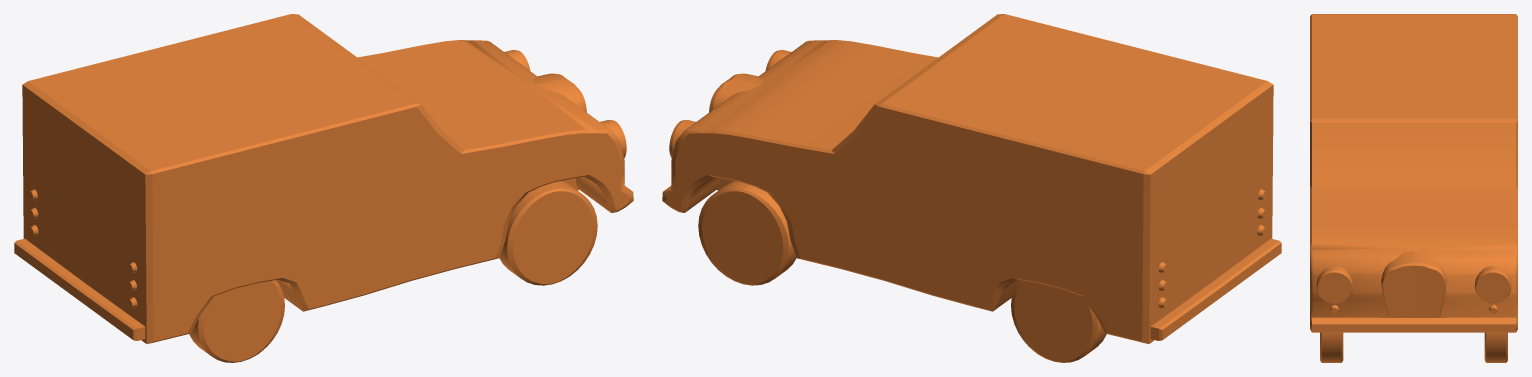
Rendered from wallace.glb.
3 views of the same model, side by side, from view 1: azimuth 30°, elevation 25°; view 2: azimuth 150°, elevation 25°; view 3: azimuth 270°, elevation 25° (orthographic). The views are drawn at different scales.
Visible parts, largest first — view 1: wallace; view 2: wallace; view 3: wallace.
Boxes of the visible parts, x1,y1,x2,y2 form: wallace: [14, 14, 633, 362]; wallace: [662, 14, 1281, 362]; wallace: [1310, 14, 1517, 362].
Bounding box in the file's own units: 25.71 × 10.89 × 11.2.
